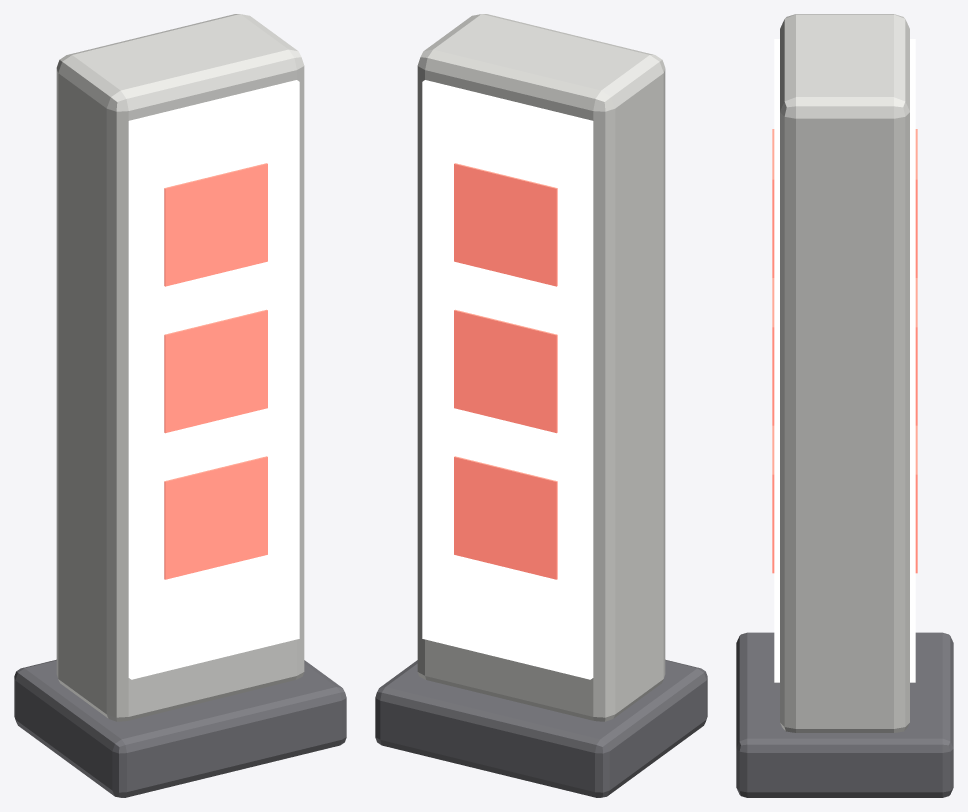
The model's file is light_box_sign.glb.
3 views of the same model, side by side, from view 1: azimuth 30°, elevation 25°; view 2: azimuth 150°, elevation 25°; view 3: azimuth 270°, elevation 25° (orthographic).
Parts seen in each view (by area): view 1: light_box_sign; view 2: light_box_sign; view 3: light_box_sign.
Part boxes in pixels (box(x1,y1,x2,y2)): light_box_sign: box(14, 14, 346, 797); light_box_sign: box(375, 14, 707, 797); light_box_sign: box(736, 14, 953, 797).
Size of the model in its own units: 0.5 by 1.4 by 0.4.
